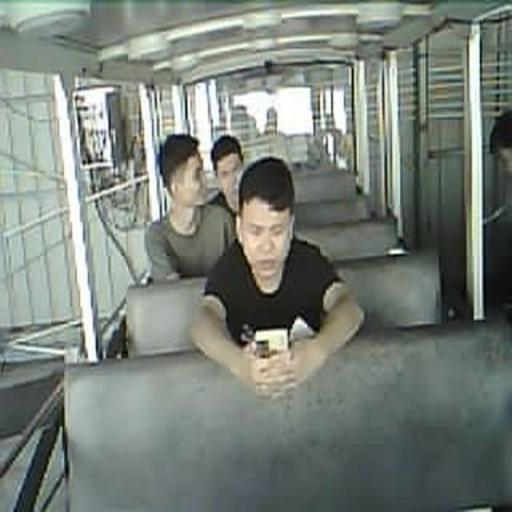persona: (188, 156, 366, 401), (143, 132, 238, 283), (209, 134, 245, 215)
